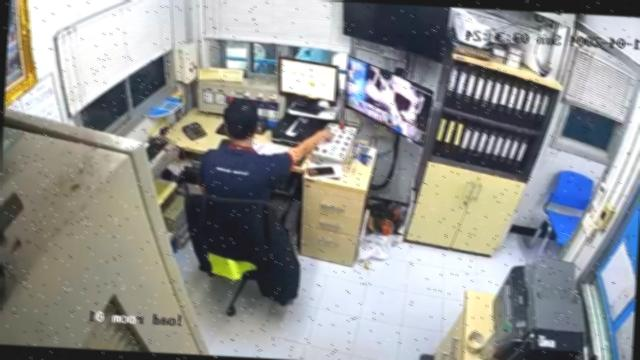Head: (223, 98, 259, 139)
People: (197, 99, 333, 200)
Phone: (305, 166, 334, 175)
